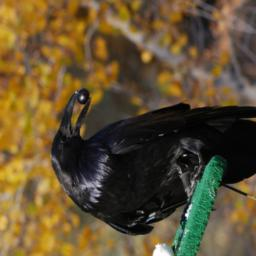Crow: (38, 32, 256, 256)
